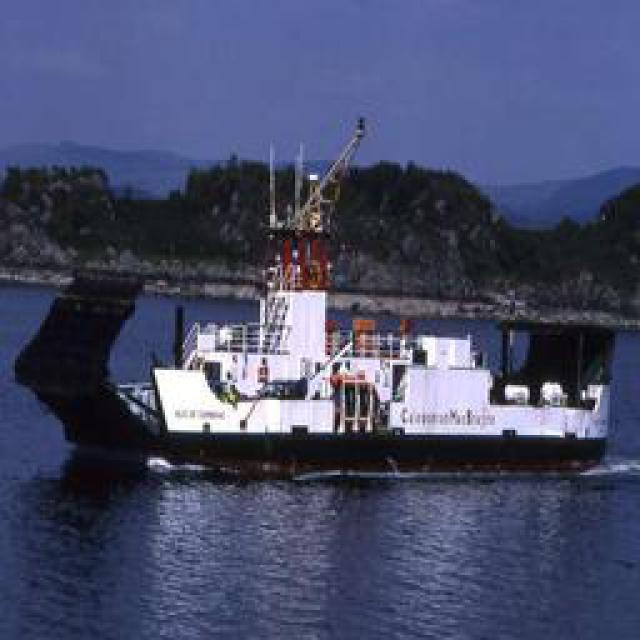Ship: (90, 278, 623, 483)
